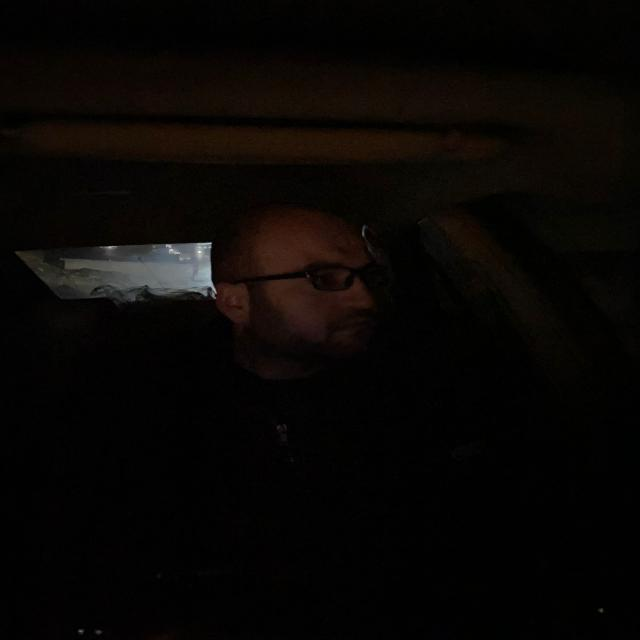LeftRight: (196, 207, 420, 364)
